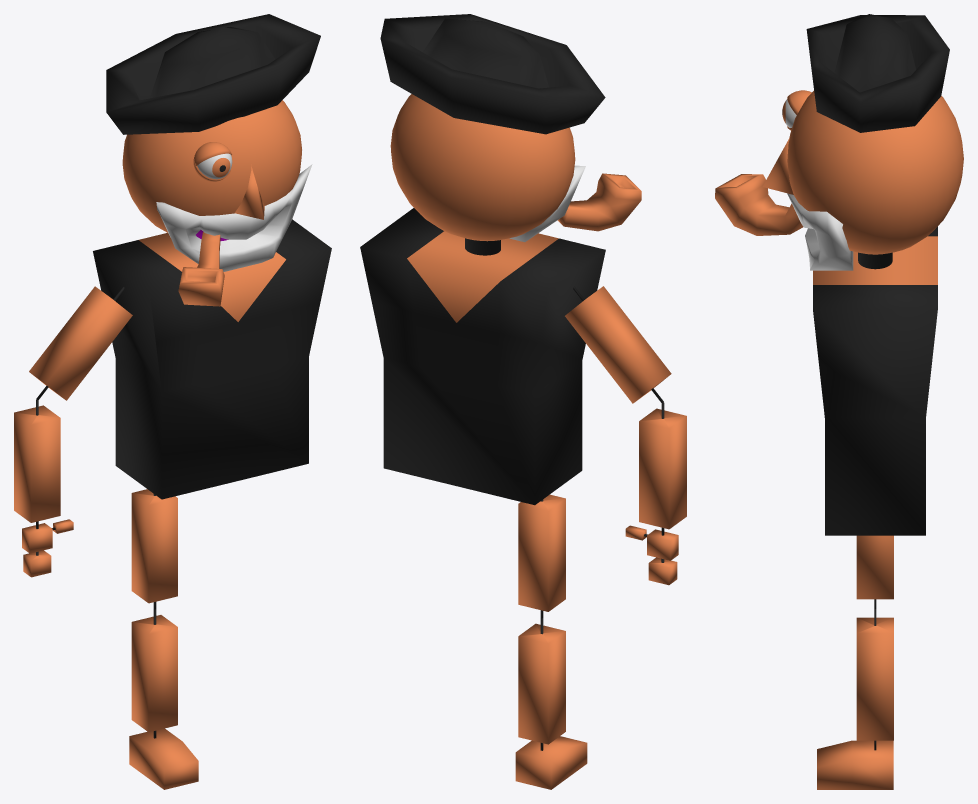
File: Pirate1.fbx
3 renders of one model, left to right at view 1: azimuth 30°, elevation 25°; view 2: azimuth 150°, elevation 25°; view 3: azimuth 270°, elevation 25°, orthographic. The views are drawn at different scales.
Parts seen in each view (by area): view 1: Cube, Sphere, Cylinder, Cube.002, Cube.007, Cube.001, Cube.006, Cube.008, Cube.010, Cube.003, Cone, Sphere.001 (+1 smaller); view 2: Cube, Sphere, Cylinder, Cube.002, Cube.007, Cube.001, Cube.006, Cube.010, Cube.008, Cube.003, Cube.004; view 3: Cube, Sphere, Cylinder, Cube.007, Cube.008, Cube.010, Cube.006, Cone.
Part boxes in pixels (bbox=[...]): Cube: bbox=[93, 219, 331, 499]; Sphere: bbox=[122, 100, 312, 271]; Cylinder: bbox=[106, 14, 320, 134]; Cube.002: bbox=[29, 286, 132, 400]; Cube.007: bbox=[131, 609, 177, 732]; Cube.001: bbox=[14, 399, 60, 522]; Cube.006: bbox=[131, 489, 177, 609]; Cube.008: bbox=[129, 728, 198, 789]; Cube.010: bbox=[178, 232, 224, 306]; Cube.003: bbox=[22, 521, 52, 553]; Cone: bbox=[234, 164, 264, 219]; Sphere.001: bbox=[197, 153, 232, 179]; Cube: bbox=[360, 208, 605, 505]; Sphere: bbox=[390, 94, 585, 255]; Cylinder: bbox=[380, 14, 605, 134]; Cube.002: bbox=[565, 286, 671, 403]; Cube.007: bbox=[518, 618, 565, 744]; Cube.001: bbox=[639, 402, 686, 529]; Cube.006: bbox=[518, 494, 565, 618]; Cube.010: bbox=[557, 173, 641, 231]; Cube.008: bbox=[515, 736, 587, 789]; Cube.003: bbox=[647, 527, 678, 560]; Cube.004: bbox=[648, 557, 677, 585]; Cube: bbox=[813, 226, 937, 535]; Sphere: bbox=[787, 91, 963, 270]; Cylinder: bbox=[806, 14, 949, 132]; Cube.007: bbox=[856, 609, 893, 740]; Cube.008: bbox=[817, 740, 893, 789]; Cube.010: bbox=[715, 174, 803, 235]; Cube.006: bbox=[856, 535, 893, 608]; Cone: bbox=[762, 137, 793, 194].
Bounding box in the file's own units: 370 × 873 × 249.
